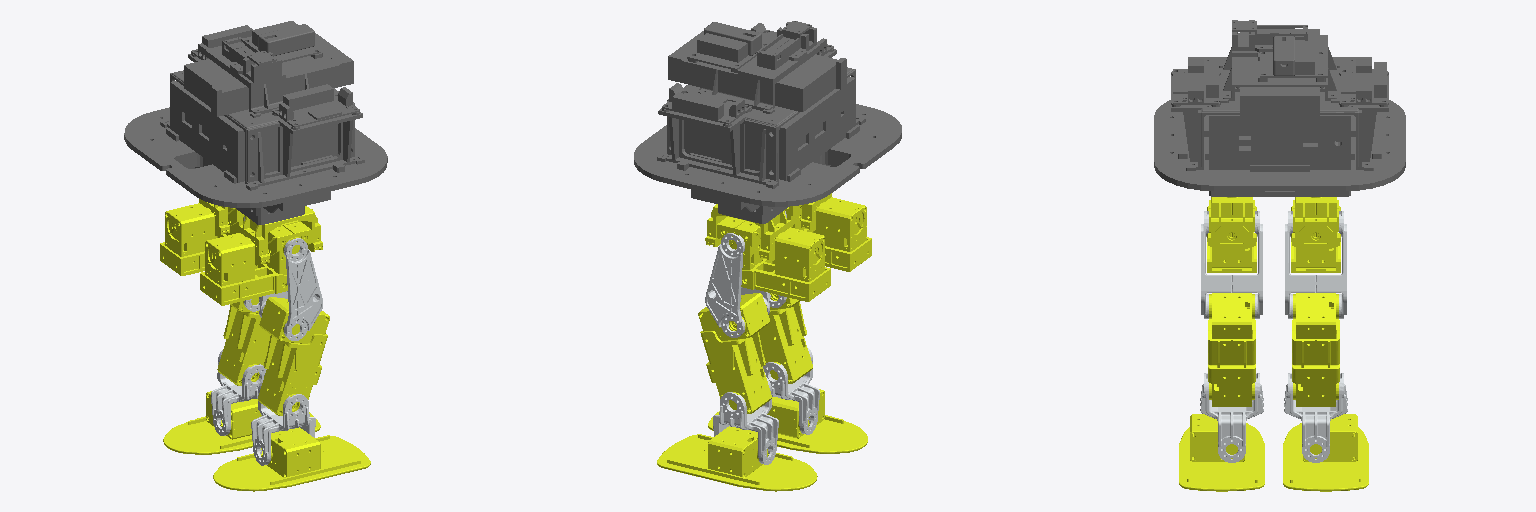
URDF robot description (exhx5_w_b_16):
<?xml version="1.0" encoding="utf-8"?>
<!-- This URDF was automatically created by SolidWorks to URDF Exporter! Originally created by [author] ([email redacted]) 
     Commit Version: 1.5.1-0-g916b5db  Build Version: 1.5.7152.31018
     For more information, please see http://wiki.ros.org/sw_urdf_exporter -->
<robot
  name="exhx5_w_b_16">
  <link
    name="body_link">
    <inertial>
      <origin
        xyz="0.00043545 0.00025536 0.10071"
        rpy="0 0 0" />
      <mass
        value="1.8238" />
      <inertia
        ixx="0.0025905"
        ixy="-5.6852E-06"
        ixz="-1.3106E-05"
        iyy="0.0024595"
        iyz="-1.261E-06"
        izz="0.0046407" />
    </inertial>
    <visual>
      <origin
        xyz="0 0 0"
        rpy="0 0 0" />
      <geometry>
        <mesh
          filename="../meshes/body_link.STL" />
      </geometry>
      <material
        name="">
        <color
          rgba="0.49804 0.49804 0.49804 1" />
      </material>
    </visual>
    <collision>
      <origin
        xyz="0 0 0"
        rpy="0 0 0" />
      <geometry>
        <mesh
          filename="../meshes/body_link.STL" />
      </geometry>
    </collision>
  </link>

  <link
    name="imu_link">
    <inertial>
      <origin
        xyz="-0.008387 1.336E-17 -0.0069463"
        rpy="0 0 0" />
      <mass
        value="0.0062931" />
      <inertia
        ixx="3.2242E-07"
        ixy="3.3527E-22"
        ixz="-6.9193E-08"
        iyy="9.2229E-07"
        iyz="-8.0392E-22"
        izz="1.1018E-06" />
    </inertial>
    <visual>
      <origin
        xyz="0 0 0"
        rpy="0 0 0" />
      <geometry>
        <mesh
          filename="../meshes/imu_link.STL" />
      </geometry>
      <material
        name="">
        <color
          rgba="0.79216 0.81961 0.93333 1" />
      </material>
    </visual>
    <collision>
      <origin
        xyz="0 0 0"
        rpy="0 0 0" />
      <geometry>
        <mesh
          filename="../meshes/imu_link.STL" />
      </geometry>
    </collision>
  </link>
  <joint
    name="imu"
    type="fixed">
    <origin
      xyz="0 0 0.0492"
      rpy="0 0 0" />
    <parent
      link="body_link" />
    <child
      link="imu_link" />
    <axis
      xyz="0 0 0" />
    <limit
      lower="-3.14"
      upper="3.14"
      effort="4"
      velocity="4" />
  </joint>
  <link
    name="l_hip_g_link">
    <inertial>
      <origin
        xyz="-0.0043797 -8.6604E-08 0.011813"
        rpy="0 0 0" />
      <mass
        value="0.061008" />
      <inertia
        ixx="1.167E-05"
        ixy="7.1767E-11"
        ixz="9.1442E-09"
        iyy="2.2342E-05"
        iyz="2.5177E-11"
        izz="2.4892E-05" />
    </inertial>
    <visual>
      <origin
        xyz="0 0 0"
        rpy="0 0 0" />
      <geometry>
        <mesh
          filename="../meshes/l_hip_g_link.STL" />
      </geometry>
      <material
        name="">
        <color
          rgba="0.9451 1 0.18431 1" />
      </material>
    </visual>
    <collision>
      <origin
        xyz="0 0 0"
        rpy="0 0 0" />
      <geometry>
        <mesh
          filename="../meshes/l_hip_g_link.STL" />
      </geometry>
    </collision>
  </link>
  <joint
    name="l_hip_g"
    type="fixed">
    <origin
      xyz="0 .030 0"
      rpy="0 0 0" />
    <parent
      link="body_link" />
    <child
      link="l_hip_g_link" />
    <axis
      xyz="0 0 0" />
  </joint>
  <link
    name="l_hip_roll_link">
    <inertial>
      <origin
        xyz="0.013831 0.00033457 0.025453"
        rpy="0 0 0" />
      <mass
        value="0.2969" />
      <inertia
        ixx="7.8136E-05"
        ixy="7.265E-07"
        ixz="-6.9809E-08"
        iyy="9.2183E-05"
        iyz="-5.6881E-11"
        izz="7.1034E-05" />
    </inertial>
    <visual>
      <origin
        xyz="0 0 0"
        rpy="0 0 0" />
      <geometry>
        <mesh
          filename="../meshes/l_hip_roll_link.STL" />
      </geometry>
      <material
        name="">
        <color
          rgba="0.9451 1 0.18431 1" />
      </material>
    </visual>
    <collision>
      <origin
        xyz="0 0 0"
        rpy="0 0 0" />
      <geometry>
        <mesh
          filename="../meshes/l_hip_roll_link.STL" />
      </geometry>
    </collision>
  </link>
  <joint
    name="l_hip_roll"
    type="revolute">
    <origin
      xyz="0 0 0"
      rpy="3.1416 1.5708 0" />
    <parent
      link="l_hip_g_link" />
    <child
      link="l_hip_roll_link" />
    <axis
      xyz="0 0 1" />
    <limit
      lower="-3.14"
      upper="3.14"
      effort="4"
      velocity="4" />
  </joint>
  <link
    name="l_hip_pitch_link">
    <inertial>
      <origin
        xyz="0.041225 -0.007321 -5.0713E-08"
        rpy="0 0 0" />
      <mass
        value="0.051592" />
      <inertia
        ixx="2.7959E-05"
        ixy="2.0752E-06"
        ixz="-8.0934E-11"
        iyy="4.8156E-05"
        iyz="3.6317E-11"
        izz="2.9604E-05" />
    </inertial>
    <visual>
      <origin
        xyz="0 0 0"
        rpy="0 0 0" />
      <geometry>
        <mesh
          filename="../meshes/l_hip_pitch_link.STL" />
      </geometry>
      <material
        name="">
        <color
          rgba="0.89804 0.91765 0.92941 1" />
      </material>
    </visual>
    <collision>
      <origin
        xyz="0 0 0"
        rpy="0 0 0" />
      <geometry>
        <mesh
          filename="../meshes/l_hip_pitch_link.STL" />
      </geometry>
    </collision>
  </link>
  <joint
    name="l_hip_pitch"
    type="revolute">
    <origin
      xyz="0 0 0"
      rpy="1.5708 0 0" />
    <parent
      link="l_hip_roll_link" />
    <child
      link="l_hip_pitch_link" />
    <axis
      xyz="0 0 1" />
    <limit
      lower="-3.14"
      upper="3.14"
      effort="4"
      velocity="4" />
  </joint>
  <link
    name="l_knee_link">
    <inertial>
      <origin
        xyz="0.033756 -0.0084189 -6.6115E-09"
        rpy="0 0 0" />
      <mass
        value="0.28878" />
      <inertia
        ixx="6.6724E-05"
        ixy="7.5004E-07"
        ixz="-8.4578E-07"
        iyy="6.5699E-05"
        iyz="4.1085E-07"
        izz="7.0381E-05" />
    </inertial>
    <visual>
      <origin
        xyz="0 0 0"
        rpy="0 0 0" />
      <geometry>
        <mesh
          filename="../meshes/l_knee_link.STL" />
      </geometry>
      <material
        name="">
        <color
          rgba="0.9451 1 0.18431 1" />
      </material>
    </visual>
    <collision>
      <origin
        xyz="0 0 0"
        rpy="0 0 0" />
      <geometry>
        <mesh
          filename="../meshes/l_knee_link.STL" />
      </geometry>
    </collision>
  </link>
  <joint
    name="l_knee"
    type="revolute">
    <origin
      xyz="0.075954 0 0"
      rpy="0 0 0" />
    <parent
      link="l_hip_pitch_link" />
    <child
      link="l_knee_link" />
    <axis
      xyz="0 0 1" />
    <limit
      lower="-3.14"
      upper="3.14"
      effort="4"
      velocity="4" />
  </joint>
  <link
    name="l_ank_pitch_link">
    <inertial>
      <origin
        xyz="0.022786 -7.3909E-09 -7.1981E-06"
        rpy="0 0 0" />
      <mass
        value="0.044772" />
      <inertia
        ixx="1.777E-05"
        ixy="8.555E-14"
        ixz="-3.3713E-09"
        iyy="1.7119E-05"
        iyz="1.7593E-11"
        izz="1.8661E-05" />
    </inertial>
    <visual>
      <origin
        xyz="0 0 0"
        rpy="0 0 0" />
      <geometry>
        <mesh
          filename="../meshes/l_ank_pitch_link.STL" />
      </geometry>
      <material
        name="">
        <color
          rgba="0.89804 0.91765 0.92941 1" />
      </material>
    </visual>
    <collision>
      <origin
        xyz="0 0 0"
        rpy="0 0 0" />
      <geometry>
        <mesh
          filename="../meshes/l_ank_pitch_link.STL" />
      </geometry>
    </collision>
  </link>
  <joint
    name="l_ank_pitch"
    type="revolute">
    <origin
      xyz="0.074602 0 0"
      rpy="3.1416 0 0" />
    <parent
      link="l_knee_link" />
    <child
      link="l_ank_pitch_link" />
    <axis
      xyz="0 0 1" />
    <limit
      lower="-3.14"
      upper="3.14"
      effort="4"
      velocity="4" />
  </joint>
  <link
    name="l_ank_roll_link">
    <inertial>
      <origin
        xyz="0.0047069 0.010728 0.0015299"
        rpy="0 0 0" />
      <mass
        value="0.16774" />
      <inertia
        ixx="0.00012039"
        ixy="-3.7428E-09"
        ixz="4.4069E-08"
        iyy="8.7735E-05"
        iyz="7.0469E-07"
        izz="4.7866E-05" />
    </inertial>
    <visual>
      <origin
        xyz="0 0 0"
        rpy="0 0 0" />
      <geometry>
        <mesh
          filename="../meshes/l_ank_roll_link.STL" />
      </geometry>
      <material
        name="">
        <color
          rgba="0.9451 1 0.18431 1" />
      </material>
    </visual>
    <collision>
      <origin
        xyz="0 0 0"
        rpy="0 0 0" />
      <geometry>
        <mesh
          filename="../meshes/l_ank_roll_link.STL" />
      </geometry>
    </collision>
  </link>
  <joint
    name="l_ank_roll"
    type="revolute">
    <origin
      xyz="0.0465 0 0"
      rpy="-1.5708 0 0" />
    <parent
      link="l_ank_pitch_link" />
    <child
      link="l_ank_roll_link" />
    <axis
      xyz="0 0 1" />
    <limit
      lower="-3.14"
      upper="3.14"
      effort="4"
      velocity="4" />
  </joint>
  <link
    name="r_hip_g_link">
    <inertial>
      <origin
        xyz="-0.0043797 -8.6604E-08 0.011813"
        rpy="0 0 0" />
      <mass
        value="0.061008" />
      <inertia
        ixx="1.167E-05"
        ixy="7.1767E-11"
        ixz="9.1442E-09"
        iyy="2.2342E-05"
        iyz="2.5177E-11"
        izz="2.4892E-05" />
    </inertial>
    <visual>
      <origin
        xyz="0 0 0"
        rpy="0 0 0" />
      <geometry>
        <mesh
          filename="../meshes/r_hip_g_link.STL" />
      </geometry>
      <material
        name="">
        <color
          rgba="0.9451 1 0.18431 1" />
      </material>
    </visual>
    <collision>
      <origin
        xyz="0 0 0"
        rpy="0 0 0" />
      <geometry>
        <mesh
          filename="../meshes/r_hip_g_link.STL" />
      </geometry>
    </collision>
  </link>
  <joint
    name="r_hip_g"
    type="fixed">
    <origin
      xyz="0 -.040 0"
      rpy="0 0 0" />
    <parent
      link="body_link" />
    <child
      link="r_hip_g_link" />
    <axis
      xyz="0 0 0" />
  </joint>
  <link
    name="r_hip_roll_link">
    <inertial>
      <origin
        xyz="0.013831 0.00033457 0.025453"
        rpy="0 0 0" />
      <mass
        value="0.2969" />
      <inertia
        ixx="7.8136E-05"
        ixy="7.265E-07"
        ixz="-6.9809E-08"
        iyy="9.2183E-05"
        iyz="-5.6881E-11"
        izz="7.1034E-05" />
    </inertial>
    <visual>
      <origin
        xyz="0 0 0"
        rpy="0 0 0" />
      <geometry>
        <mesh
          filename="../meshes/r_hip_roll_link.STL" />
      </geometry>
      <material
        name="">
        <color
          rgba="0.9451 1 0.18431 1" />
      </material>
    </visual>
    <collision>
      <origin
        xyz="0 0 0"
        rpy="0 0 0" />
      <geometry>
        <mesh
          filename="../meshes/r_hip_roll_link.STL" />
      </geometry>
    </collision>
  </link>
  <joint
    name="r_hip_roll"
    type="revolute">
    <origin
      xyz="0 0 0"
      rpy="3.1416 1.5708 0" />
    <parent
      link="r_hip_g_link" />
    <child
      link="r_hip_roll_link" />
    <axis
      xyz="0 0 1" />
    <limit
      lower="-3.14"
      upper="3.14"
      effort="4"
      velocity="4" />
  </joint>
  <link
    name="r_hip_pitch_link">
    <inertial>
      <origin
        xyz="0.041225 0.007321 5.0713E-08"
        rpy="0 0 0" />
      <mass
        value="0.051592" />
      <inertia
        ixx="2.7959E-05"
        ixy="-2.0752E-06"
        ixz="8.0934E-11"
        iyy="4.8156E-05"
        iyz="3.6317E-11"
        izz="2.9604E-05" />
    </inertial>
    <visual>
      <origin
        xyz="0 0 0"
        rpy="0 0 0" />
      <geometry>
        <mesh
          filename="../meshes/r_hip_pitch_link.STL" />
      </geometry>
      <material
        name="">
        <color
          rgba="0.89804 0.91765 0.92941 1" />
      </material>
    </visual>
    <collision>
      <origin
        xyz="0 0 0"
        rpy="0 0 0" />
      <geometry>
        <mesh
          filename="../meshes/r_hip_pitch_link.STL" />
      </geometry>
    </collision>
  </link>
  <joint
    name="r_hip_pitch"
    type="revolute">
    <origin
      xyz="0 0 0"
      rpy="-1.5708 0 0" />
    <parent
      link="r_hip_roll_link" />
    <child
      link="r_hip_pitch_link" />
    <axis
      xyz="0 0 1" />
    <limit
      lower="-3.14"
      upper="3.14"
      effort="4"
      velocity="4" />
  </joint>
  <link
    name="r_knee_link">
    <inertial>
      <origin
        xyz="0.033757 0.0084176 6.6115E-09"
        rpy="0 0 0" />
      <mass
        value="0.28878" />
      <inertia
        ixx="6.6724E-05"
        ixy="-7.5008E-07"
        ixz="8.458E-07"
        iyy="6.5699E-05"
        iyz="4.1081E-07"
        izz="7.0381E-05" />
    </inertial>
    <visual>
      <origin
        xyz="0 0 0"
        rpy="0 0 0" />
      <geometry>
        <mesh
          filename="../meshes/r_knee_link.STL" />
      </geometry>
      <material
        name="">
        <color
          rgba="0.9451 1 0.18431 1" />
      </material>
    </visual>
    <collision>
      <origin
        xyz="0 0 0"
        rpy="0 0 0" />
      <geometry>
        <mesh
          filename="../meshes/r_knee_link.STL" />
      </geometry>
    </collision>
  </link>
  <joint
    name="r_knee"
    type="revolute">
    <origin
      xyz="0.075954 0 0"
      rpy="0 0 0" />
    <parent
      link="r_hip_pitch_link" />
    <child
      link="r_knee_link" />
    <axis
      xyz="0 0 1" />
    <limit
      lower="-3.14"
      upper="3.14"
      effort="4"
      velocity="4" />
  </joint>
  <link
    name="r_ank_pitch_link">
    <inertial>
      <origin
        xyz="0.025786 -7.3887E-09 -7.1981E-06"
        rpy="0 0 0" />
      <mass
        value="0.044772" />
      <inertia
        ixx="1.777E-05"
        ixy="8.5434E-14"
        ixz="-3.3713E-09"
        iyy="1.7119E-05"
        iyz="1.7592E-11"
        izz="1.8661E-05" />
    </inertial>
    <visual>
      <origin
        xyz="0 0 0"
        rpy="0 0 0" />
      <geometry>
        <mesh
          filename="../meshes/r_ank_pitch_link.STL" />
      </geometry>
      <material
        name="">
        <color
          rgba="0.89804 0.91765 0.92941 1" />
      </material>
    </visual>
    <collision>
      <origin
        xyz="0 0 0"
        rpy="0 0 0" />
      <geometry>
        <mesh
          filename="../meshes/r_ank_pitch_link.STL" />
      </geometry>
    </collision>
  </link>
  <joint
    name="r_ank_pitch"
    type="revolute">
    <origin
      xyz="0.071602 0 0"
      rpy="3.1416 0 0" />
    <parent
      link="r_knee_link" />
    <child
      link="r_ank_pitch_link" />
    <axis
      xyz="0 0 1" />
    <limit
      lower="-3.14"
      upper="3.14"
      effort="4"
      velocity="4" />
  </joint>
  <link
    name="r_ank_roll_link">
    <inertial>
      <origin
        xyz="0.0077069 -0.010728 0.0015299"
        rpy="0 0 0" />
      <mass
        value="0.16774" />
      <inertia
        ixx="0.00012039"
        ixy="3.743E-09"
        ixz="4.407E-08"
        iyy="8.7735E-05"
        iyz="-7.0467E-07"
        izz="4.7866E-05" />
    </inertial>
    <visual>
      <origin
        xyz="0 0 0"
        rpy="0 0 0" />
      <geometry>
        <mesh
          filename="../meshes/r_ank_roll_link.STL" />
      </geometry>
      <material
        name="">
        <color
          rgba="0.9451 1 0.18431 1" />
      </material>
    </visual>
    <collision>
      <origin
        xyz="0 0 0"
        rpy="0 0 0" />
      <geometry>
        <mesh
          filename="../meshes/r_ank_roll_link.STL" />
      </geometry>
    </collision>
  </link>
  <joint
    name="r_ank_roll"
    type="revolute">
    <origin
      xyz="0.0465 0 0"
      rpy="1.5708 0 0" />
    <parent
      link="r_ank_pitch_link" />
    <child
      link="r_ank_roll_link" />
    <axis
      xyz="0 0 1" />
    <limit
      lower="-3.14"
      upper="3.14"
      effort="4"
      velocity="4" />
  </joint>
  <transmission name="r_hip_roll_tran">
    <type>transmission_interface/SimpleTransmission</type>
    <joint name="r_hip_roll">
      <hardwareInterface>hardware_interface/EffortJointInterface</hardwareInterface>
    </joint>
    <actuator name="r_hip_roll_motor">
      <hardwareInterface>hardware_interface/EffortJointInterface</hardwareInterface>
      <mechanicalReduction>1</mechanicalReduction>
    </actuator>
  </transmission>
  <transmission name="r_hip_pitch_tran">
    <type>transmission_interface/SimpleTransmission</type>
    <joint name="r_hip_pitch">
      <hardwareInterface>hardware_interface/EffortJointInterface</hardwareInterface>
    </joint>
    <actuator name="r_hip_pitch_motor">
      <hardwareInterface>hardware_interface/EffortJointInterface</hardwareInterface>
      <mechanicalReduction>1</mechanicalReduction>
    </actuator>
  </transmission>
  <transmission name="r_knee_tran">
    <type>transmission_interface/SimpleTransmission</type>
    <joint name="r_knee">
      <hardwareInterface>hardware_interface/EffortJointInterface</hardwareInterface>
    </joint>
    <actuator name="r_knee_motor">
      <hardwareInterface>hardware_interface/EffortJointInterface</hardwareInterface>
      <mechanicalReduction>1</mechanicalReduction>
    </actuator>
  </transmission>
  <transmission name="r_ank_pitch_tran">
    <type>transmission_interface/SimpleTransmission</type>
    <joint name="r_ank_pitch">
      <hardwareInterface>hardware_interface/EffortJointInterface</hardwareInterface>
    </joint>
    <actuator name="r_ank_pitch_motor">
      <hardwareInterface>hardware_interface/EffortJointInterface</hardwareInterface>
      <mechanicalReduction>1</mechanicalReduction>
    </actuator>
  </transmission>
  <transmission name="r_ank_roll_tran">
    <type>transmission_interface/SimpleTransmission</type>
    <joint name="r_ank_roll">
      <hardwareInterface>hardware_interface/EffortJointInterface</hardwareInterface>
    </joint>
    <actuator name="r_ank_roll_motor">
      <hardwareInterface>hardware_interface/EffortJointInterface</hardwareInterface>
      <mechanicalReduction>1</mechanicalReduction>
    </actuator>
  </transmission>
  <transmission name="l_hip_roll_tran">
    <type>transmission_interface/SimpleTransmission</type>
    <joint name="l_hip_roll">
      <hardwareInterface>hardware_interface/EffortJointInterface</hardwareInterface>
    </joint>
    <actuator name="l_hip_roll_motor">
      <hardwareInterface>hardware_interface/EffortJointInterface</hardwareInterface>
      <mechanicalReduction>1</mechanicalReduction>
    </actuator>
  </transmission>
  <transmission name="l_hip_pitch_tran">
    <type>transmission_interface/SimpleTransmission</type>
    <joint name="l_hip_pitch">
      <hardwareInterface>hardware_interface/EffortJointInterface</hardwareInterface>
    </joint>
    <actuator name="l_hip_pitch_motor">
      <hardwareInterface>hardware_interface/EffortJointInterface</hardwareInterface>
      <mechanicalReduction>1</mechanicalReduction>
    </actuator>
  </transmission>
  <transmission name="l_knee_tran">
    <type>transmission_interface/SimpleTransmission</type>
    <joint name="l_knee">
      <hardwareInterface>hardware_interface/EffortJointInterface</hardwareInterface>
    </joint>
    <actuator name="l_knee_motor">
      <hardwareInterface>hardware_interface/EffortJointInterface</hardwareInterface>
      <mechanicalReduction>1</mechanicalReduction>
    </actuator>
  </transmission>
  <transmission name="l_ank_pitch_tran">
    <type>transmission_interface/SimpleTransmission</type>
    <joint name="l_ank_pitch">
      <hardwareInterface>hardware_interface/EffortJointInterface</hardwareInterface>
    </joint>
    <actuator name="l_ank_pitch_motor">
      <hardwareInterface>hardware_interface/EffortJointInterface</hardwareInterface>
      <mechanicalReduction>1</mechanicalReduction>
    </actuator>
  </transmission>
  <transmission name="l_ank_roll_tran">
    <type>transmission_interface/SimpleTransmission</type>
    <joint name="l_ank_roll">
      <hardwareInterface>hardware_interface/EffortJointInterface</hardwareInterface>
    </joint>
    <actuator name="l_ank_roll_motor">
      <hardwareInterface>hardware_interface/EffortJointInterface</hardwareInterface>
      <mechanicalReduction>1</mechanicalReduction>
    </actuator>
  </transmission>
</robot>

--- Render facts (derived) ---
The picture shows the robot from 3 angles, left to right: view 1: azimuth 30°, elevation 25°; view 2: azimuth 150°, elevation 25°; view 3: azimuth 270°, elevation 25°; orthographic projection.
Model exhx5_w_b_16 with 14 links and 13 joints (10 revolute, 3 fixed), rooted at body_link, posed every joint at zero.
Visible links, largest first — view 1: body_link, r_ank_roll_link, r_hip_roll_link, r_knee_link, l_hip_roll_link, l_ank_roll_link, r_hip_pitch_link, l_knee_link, r_ank_pitch_link, l_ank_pitch_link, r_hip_g_link; view 2: body_link, l_ank_roll_link, l_hip_roll_link, l_knee_link, r_hip_roll_link, r_ank_roll_link, l_hip_pitch_link, r_knee_link, l_ank_pitch_link, r_ank_pitch_link, l_hip_g_link; view 3: body_link, l_knee_link, r_knee_link, l_ank_roll_link, r_ank_roll_link, l_hip_g_link, r_hip_g_link, l_ank_pitch_link, r_ank_pitch_link, l_hip_pitch_link, r_hip_pitch_link, l_hip_roll_link (+1 smaller).
Boxes of the visible links, x1,y1,x2,y2 form: body_link: (124, 21, 387, 224); r_ank_roll_link: (213, 427, 370, 491); r_hip_roll_link: (200, 220, 311, 305); r_knee_link: (258, 297, 329, 415); l_hip_roll_link: (160, 203, 244, 275); l_ank_roll_link: (163, 391, 320, 454); r_hip_pitch_link: (259, 238, 322, 340); l_knee_link: (217, 297, 270, 385); r_ank_pitch_link: (251, 379, 315, 465); l_ank_pitch_link: (211, 350, 266, 435); r_hip_g_link: (239, 206, 322, 265); body_link: (634, 21, 901, 223); l_ank_roll_link: (657, 426, 817, 491); l_hip_roll_link: (717, 216, 830, 301); l_knee_link: (698, 293, 771, 413); r_hip_roll_link: (785, 197, 871, 271); r_ank_roll_link: (708, 389, 867, 453); l_hip_pitch_link: (705, 233, 769, 337); r_knee_link: (759, 293, 812, 383); l_ank_pitch_link: (713, 377, 778, 464); r_ank_pitch_link: (763, 347, 819, 434); l_hip_g_link: (705, 204, 790, 260); body_link: (1154, 20, 1405, 196); l_knee_link: (1292, 293, 1339, 406); r_knee_link: (1208, 293, 1255, 406); l_ank_roll_link: (1283, 414, 1368, 491); r_ank_roll_link: (1179, 414, 1264, 491); l_hip_g_link: (1291, 197, 1340, 247); r_hip_g_link: (1207, 197, 1256, 247); l_ank_pitch_link: (1284, 373, 1347, 462); r_ank_pitch_link: (1200, 373, 1263, 462); l_hip_pitch_link: (1285, 211, 1346, 318); r_hip_pitch_link: (1201, 211, 1262, 318); l_hip_roll_link: (1291, 200, 1340, 272).
Size in the robot's own frame: 0.185 by 0.21 by 0.3893 metres.
Meshes: 14 distinct files referenced, 14 mesh visuals loaded (14 binary STL).